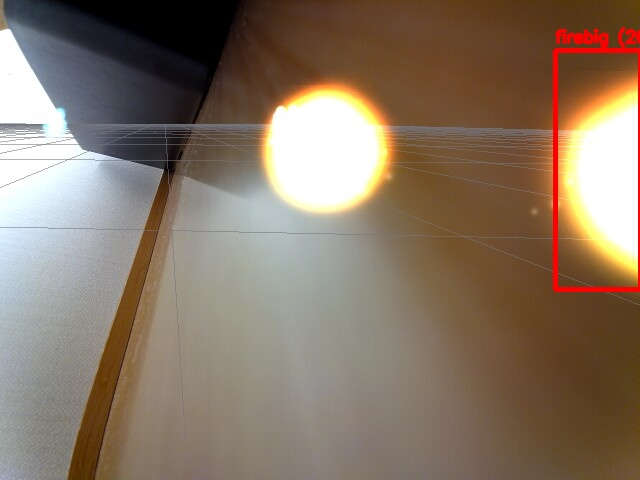firebig: (555, 50, 640, 289)
